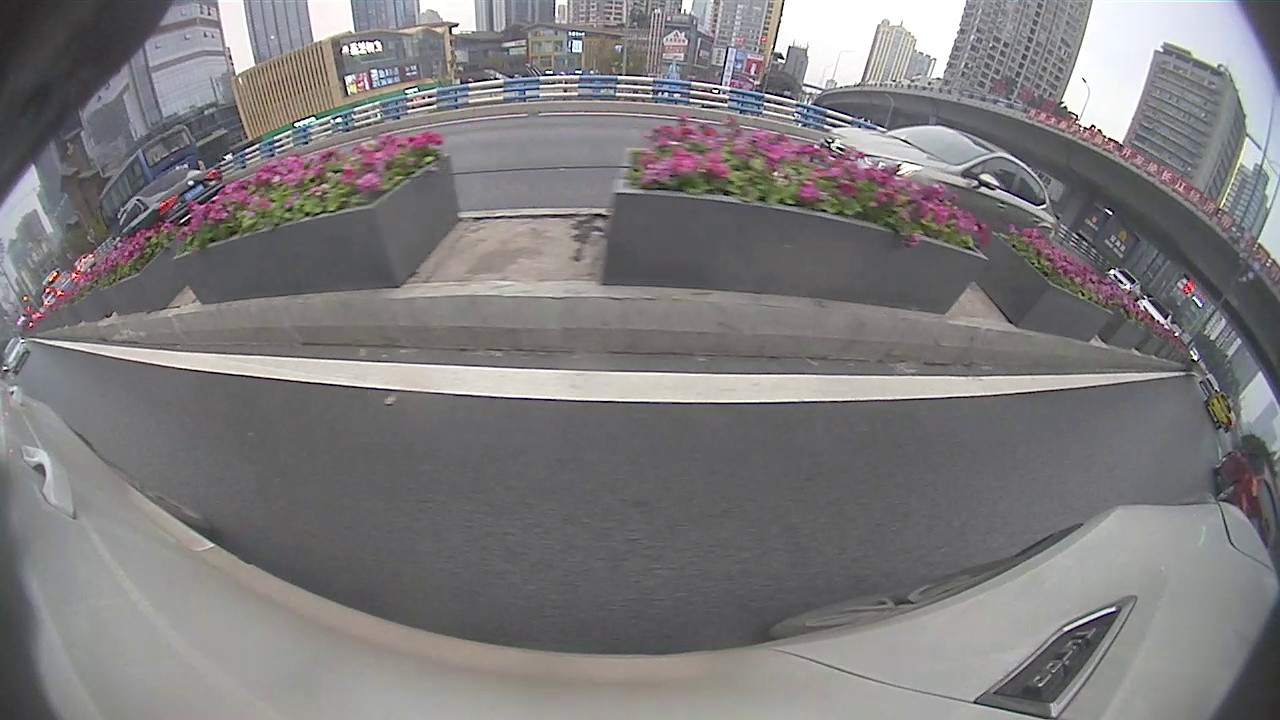car: (1213, 448, 1277, 548), (1204, 391, 1232, 431)
